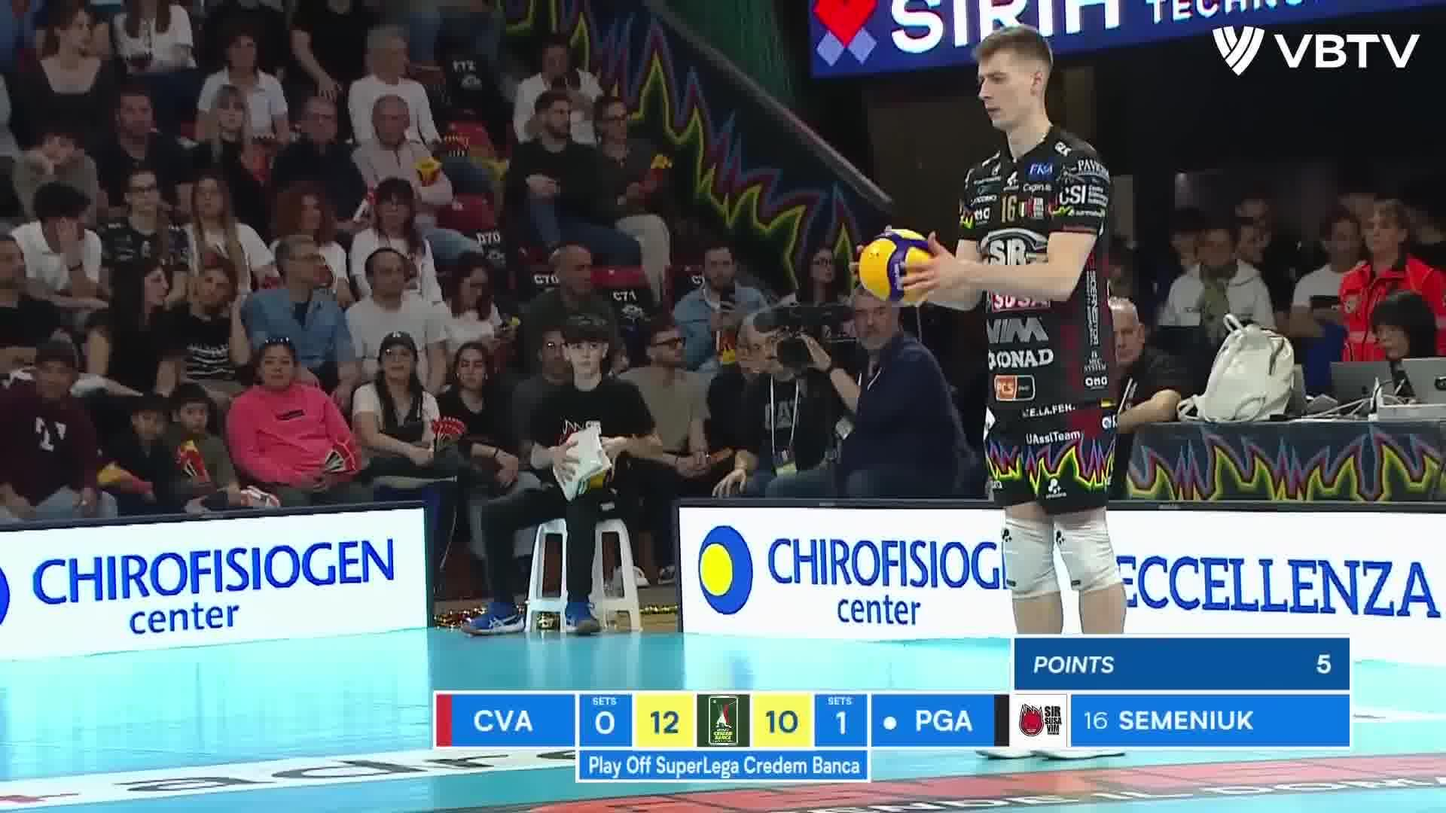balls: (854, 221, 948, 315)
